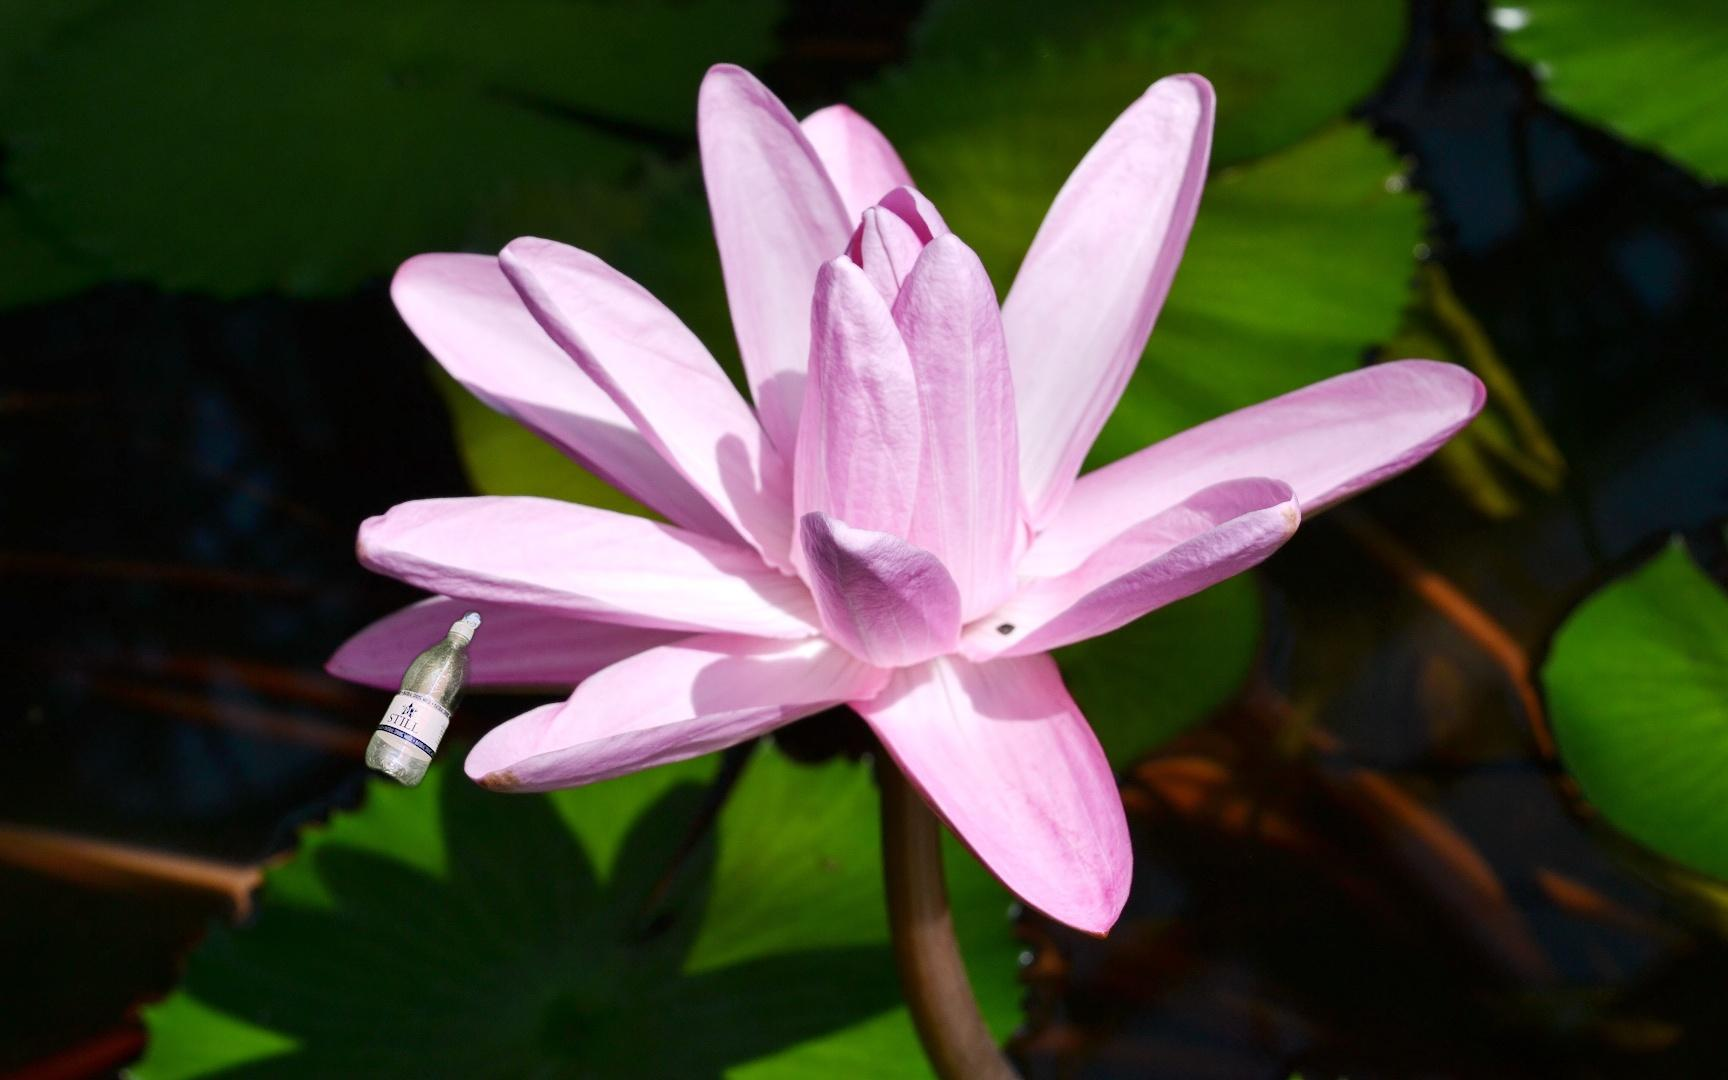plastic-bottles: (360, 607, 486, 795)
